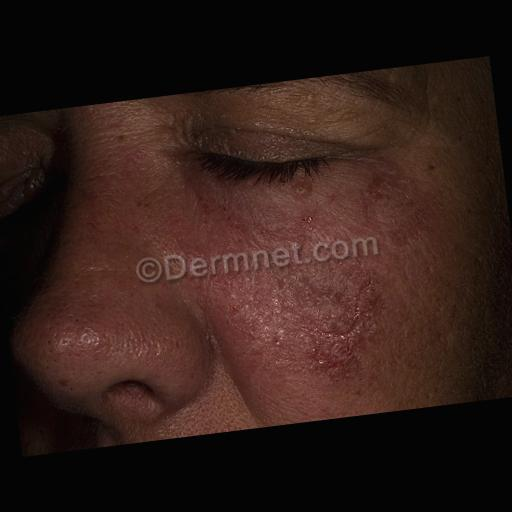Skin_Lesion: (316, 282, 378, 337), (272, 267, 312, 315), (270, 328, 322, 360), (354, 184, 392, 227), (224, 284, 264, 324), (326, 342, 362, 380), (298, 206, 320, 232)
